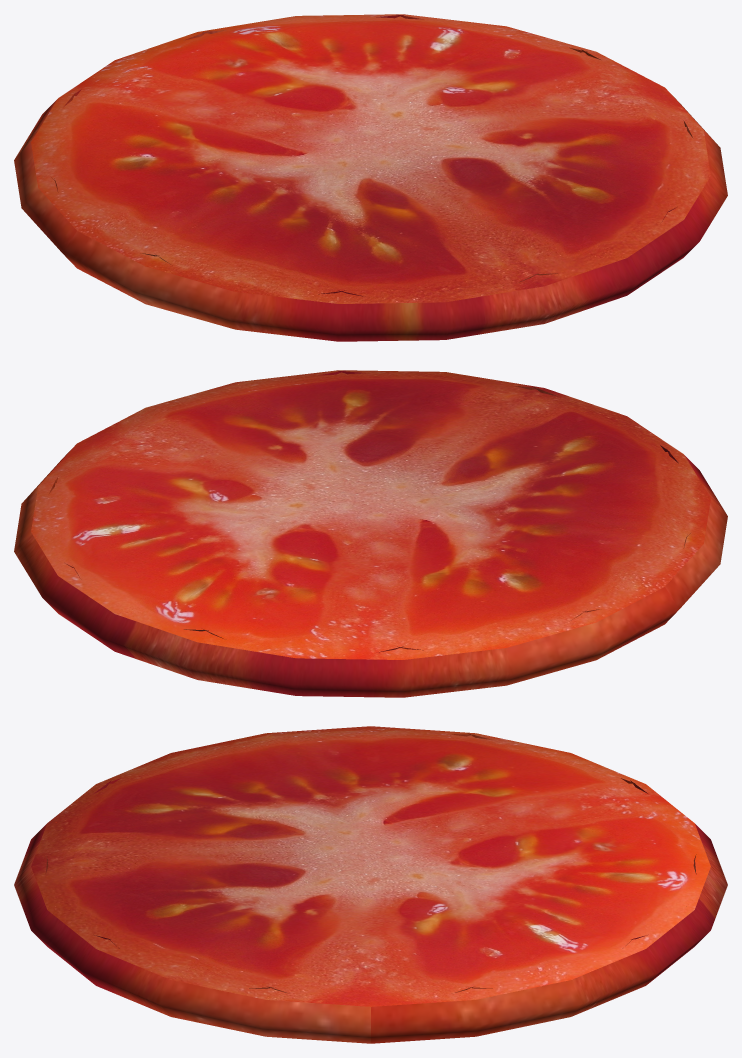
File: Tomato.fbx
3 renders of one model, top to bottom at view 1: azimuth 30°, elevation 25°; view 2: azimuth 150°, elevation 25°; view 3: azimuth 270°, elevation 25°, orthographic. The views are drawn at different scales.
Parts seen in each view (by area): view 1: tomato.001; view 2: tomato.001; view 3: tomato.001.
Part boxes in pixels (<box>): tomato.001: <box>14,14,727,341</box>; tomato.001: <box>14,370,727,697</box>; tomato.001: <box>14,726,727,1043</box>.
Size of the model in its own units: 79.7 by 8.3 by 81.59.
